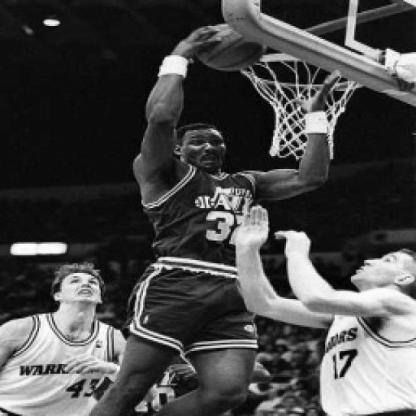basketball: (192, 17, 272, 76)
